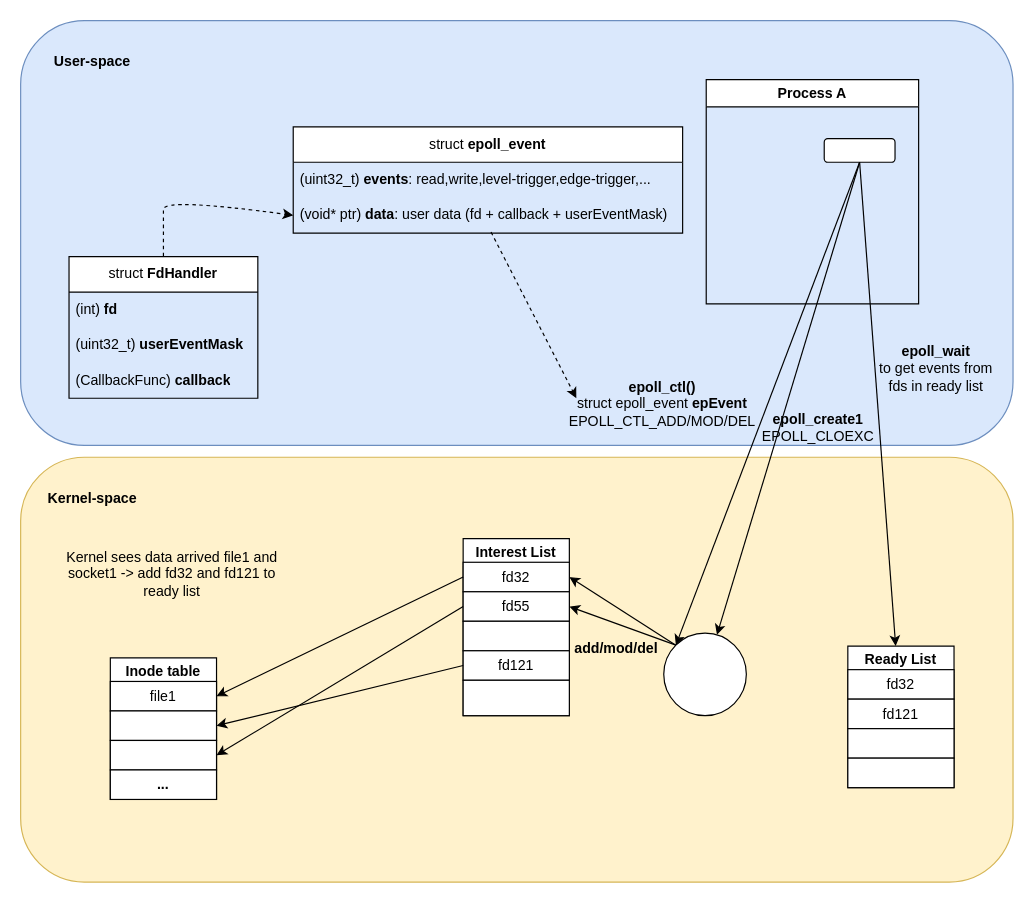
Image size: 1034x903. Some labels were removed from this diagram. Here are the shapes that lost their labels. From the top down, the centre of each, then its label:
the point at 859,149: m_epfd
the point at 515,635: fd101
the point at 704,674: epoll instance
the point at 515,697: fd210
the point at 163,725: socket1
the point at 163,754: socket2
